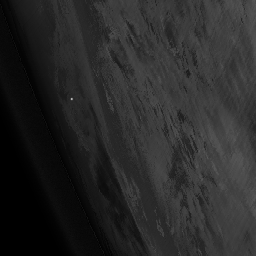Target: (68, 96, 74, 101)
